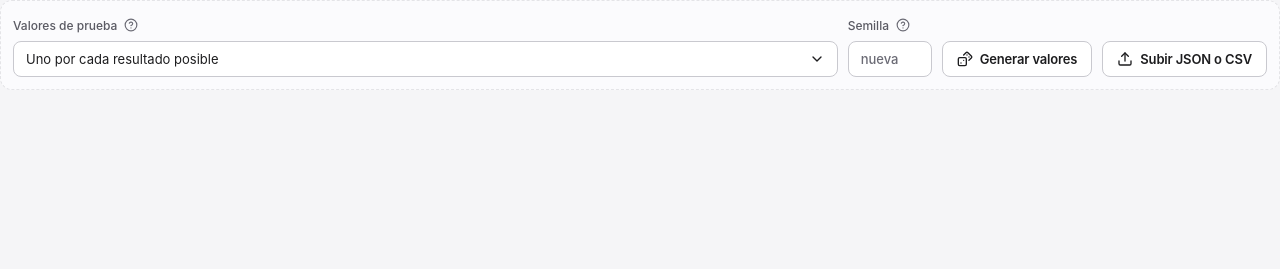
SimulatorSampleBar › por omisión pide un caso por desenlace y rotula cada uno con el suyo
Click the button "Generar valores". click: click(1017, 59)
box: x1=942 y1=41 x2=1092 y2=77
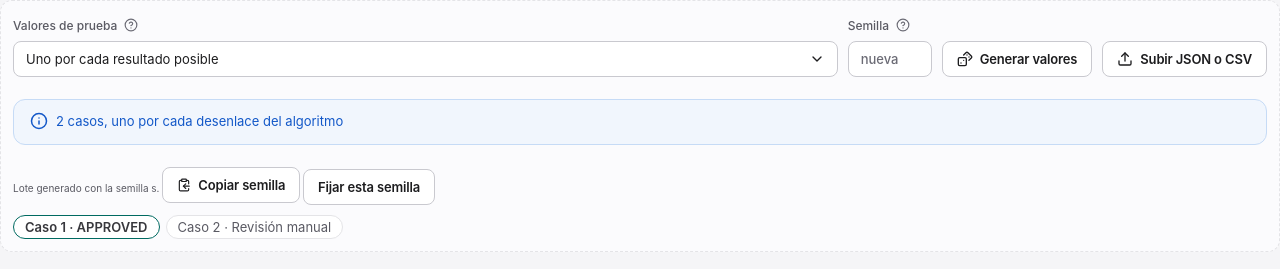
Now the button "Caso 1 · APPROVED" is shown, box x1=13 y1=214 x2=160 y2=238
Now the button "Caso 2 · Revisión manual" is shown, box x1=166 y1=214 x2=343 y2=238
